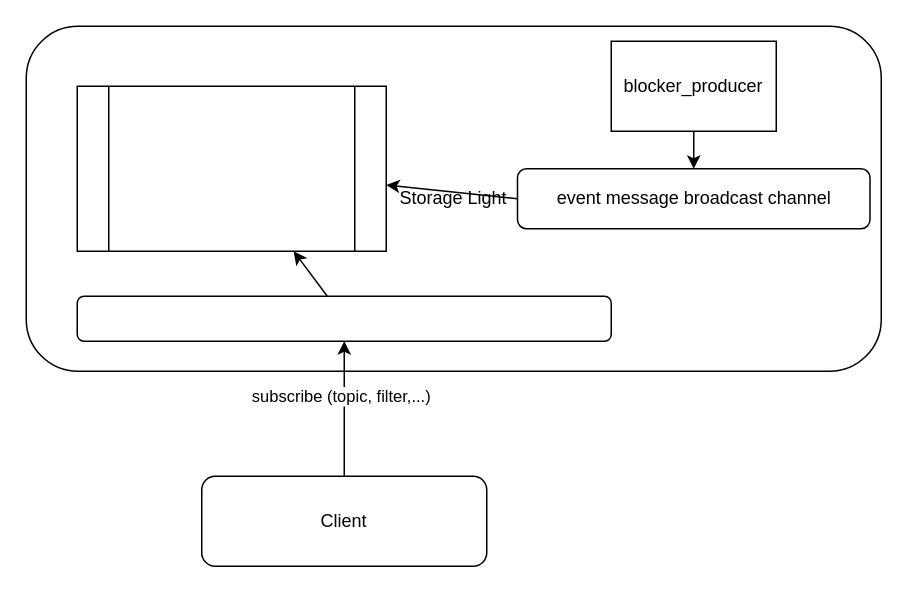
Image size: 908x593. Some labels were removed from this diagram. The shapes that lost their labels are listed below. From the top down, each one's box as (x1, y1, x2, y2) in pixels, then its label:
(76, 85, 386, 251): Keep Subsciber
(76, 295, 611, 341): subscribtion update channel
